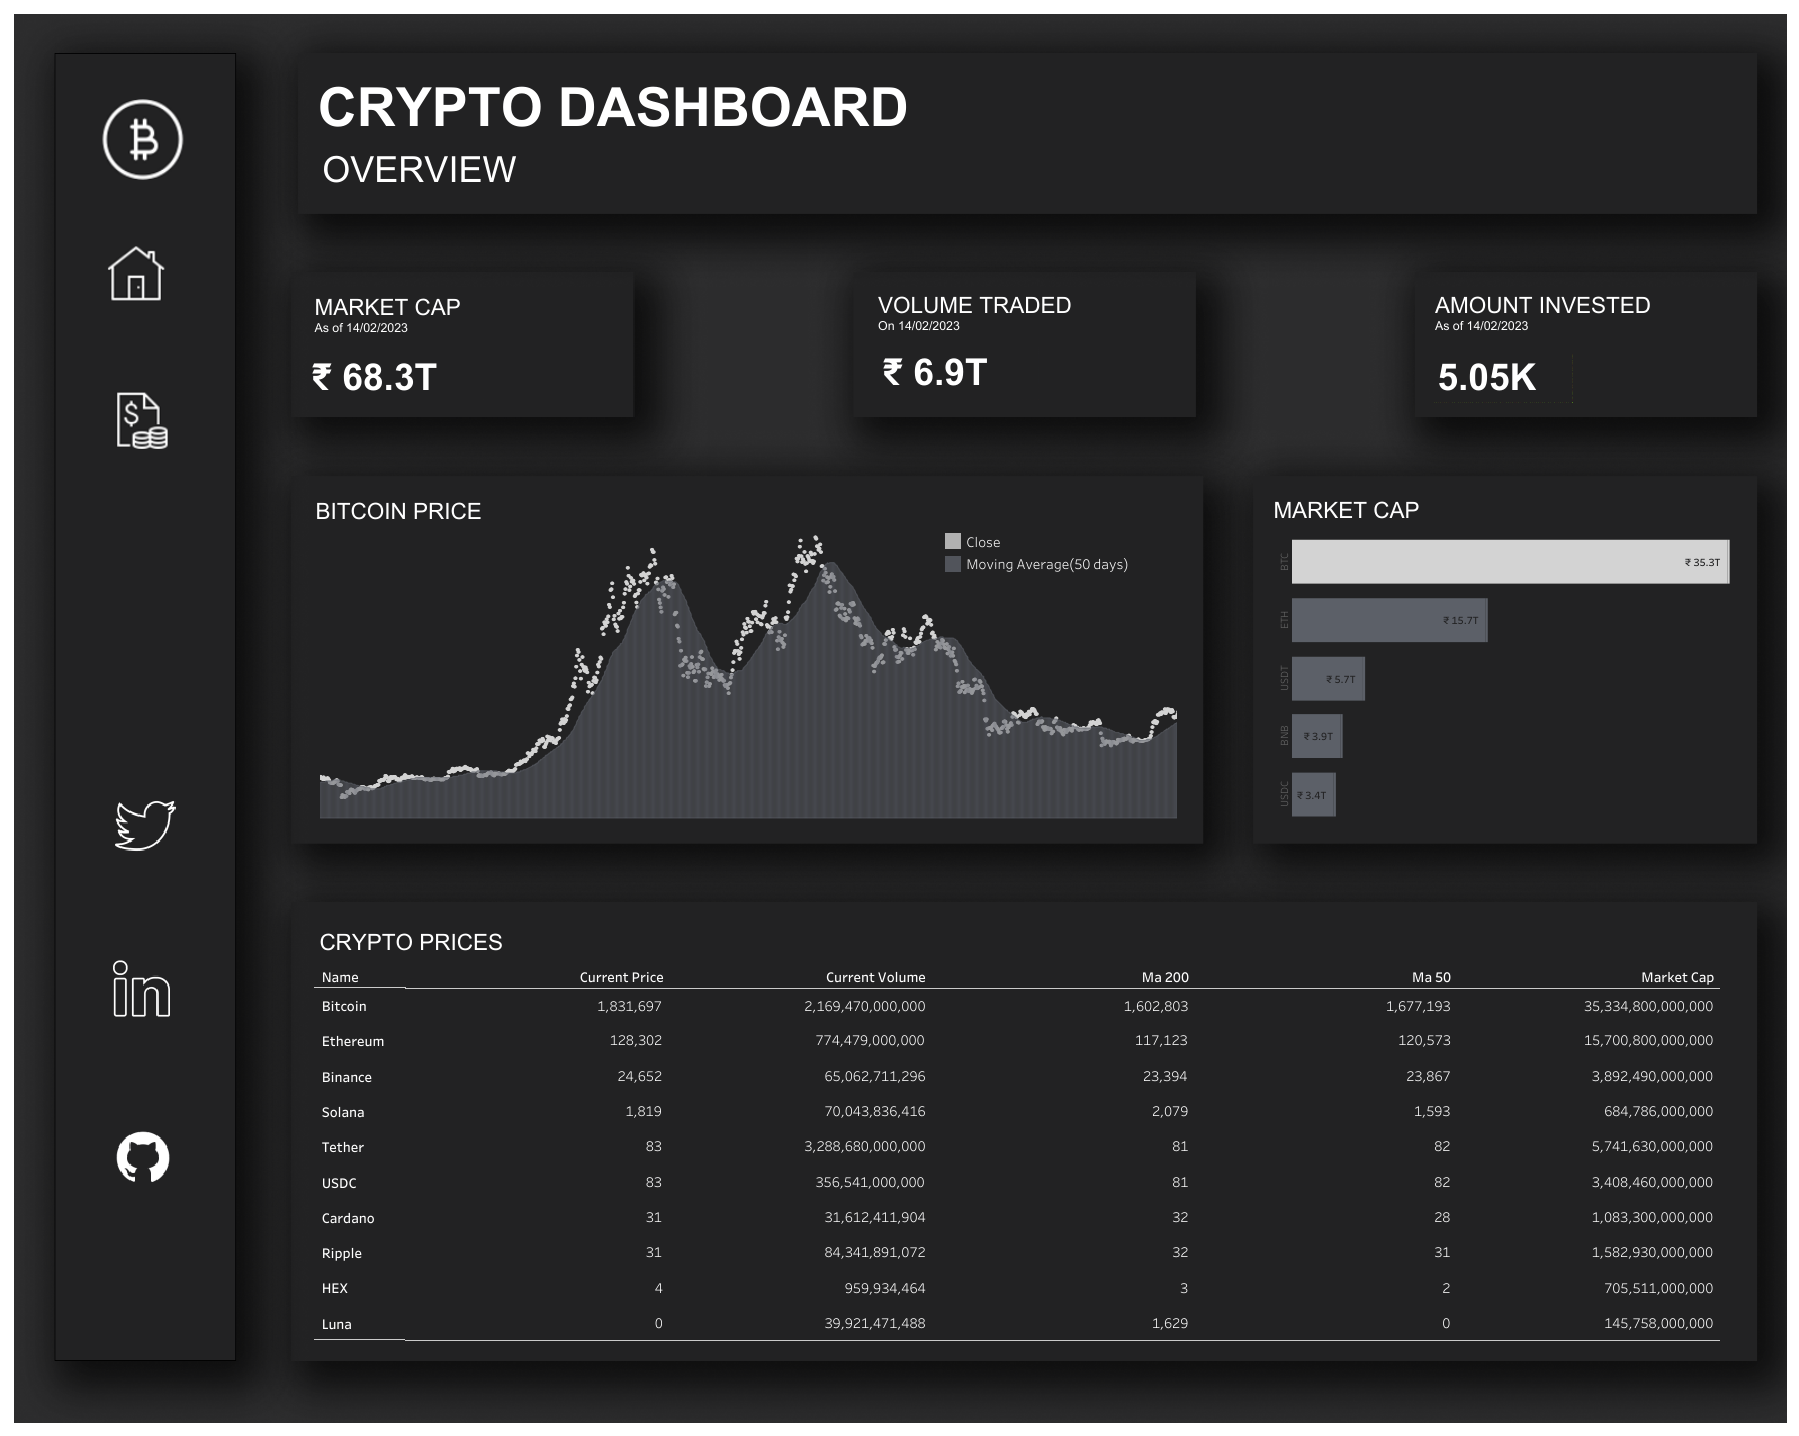

The page's visual inventory and layout, read from the dashboard file:
{"tool":"tableau","page":{"name":"Dashboard 4","canvas":[1600,1277],"ordinal":2},"visuals":[{"type":"image","param":"Image/Rectangle 1 (2).png","box":[8,8,1584,1261]},{"type":"text","box":[280,57,739,76]},{"type":"image","param":"Image/icons8-bitcoin-64 1.png","box":[91,88,72,75]},{"type":"text","box":[284,129,252,43]},{"type":"dashboard-object","box":[88,218,67,52]},{"type":"text","box":[1273,253,252,48]},{"type":"text","box":[778,254,250,46]},{"type":"text","box":[277,255,209,48]},{"type":"worksheet","title":"Sheet 4","mark":"Automatic","box":[780,308,142,46]},{"type":"worksheet","title":"Sheet 12","mark":"Automatic","box":[1274,314,123,43]},{"type":"worksheet","title":"Sheet 3","mark":"Automatic","box":[273,316,156,38]},{"type":"dashboard-object","box":[87,347,73,52]},{"type":"worksheet","title":"Sheet 1","mark":"Automatic","rows":["Abvr"],"cols":["market_cap","market_cap"],"box":[1128,435,428,297]},{"type":"text","box":[278,438,192,32]},{"type":"worksheet","title":"Sheet 6","mark":"Automatic","rows":["close"],"cols":["date"],"box":[284,463,762,277]},{"type":"legend","title":"Sheet 6","param":"[federated.0ngavl41lf39e812wikf612mz2te].[:Measure Names]","box":[837,471,209,57]},{"type":"image","param":"Image/twitter (1).png","box":[102,707,54,55]},{"type":"worksheet","title":"Sheet 2","mark":"Text","rows":["Name"],"box":[280,819,1249,373]},{"type":"image","param":"Image/linkedin (2).png","box":[100,851,51,55]},{"type":"image","param":"Image/icons8-github-120 1.png","box":[88,1001,78,56]}]}

Visuals, with their boxes in screenshot pixels (x1, y1, x2, y2), scaled from the page's 1600x1277 canvas onto the 1799x1436 screenshot:
image: region(9, 9, 1790, 1427)
text: region(315, 64, 1146, 150)
image: region(102, 99, 183, 183)
text: region(319, 145, 603, 193)
dashboard-object: region(99, 245, 174, 304)
text: region(1431, 285, 1715, 338)
text: region(875, 286, 1156, 337)
text: region(311, 287, 546, 341)
"Sheet 4" worksheet: region(877, 346, 1037, 398)
"Sheet 12" worksheet: region(1432, 353, 1571, 401)
"Sheet 3" worksheet: region(307, 355, 482, 398)
dashboard-object: region(98, 390, 180, 449)
"Sheet 1" worksheet: region(1268, 489, 1750, 823)
text: region(313, 493, 528, 529)
"Sheet 6" worksheet: region(319, 521, 1176, 832)
"Sheet 6" legend: region(941, 530, 1176, 594)
image: region(115, 795, 175, 857)
"Sheet 2" worksheet (Text marks): region(315, 921, 1719, 1340)
image: region(112, 957, 170, 1019)
image: region(99, 1126, 187, 1189)
